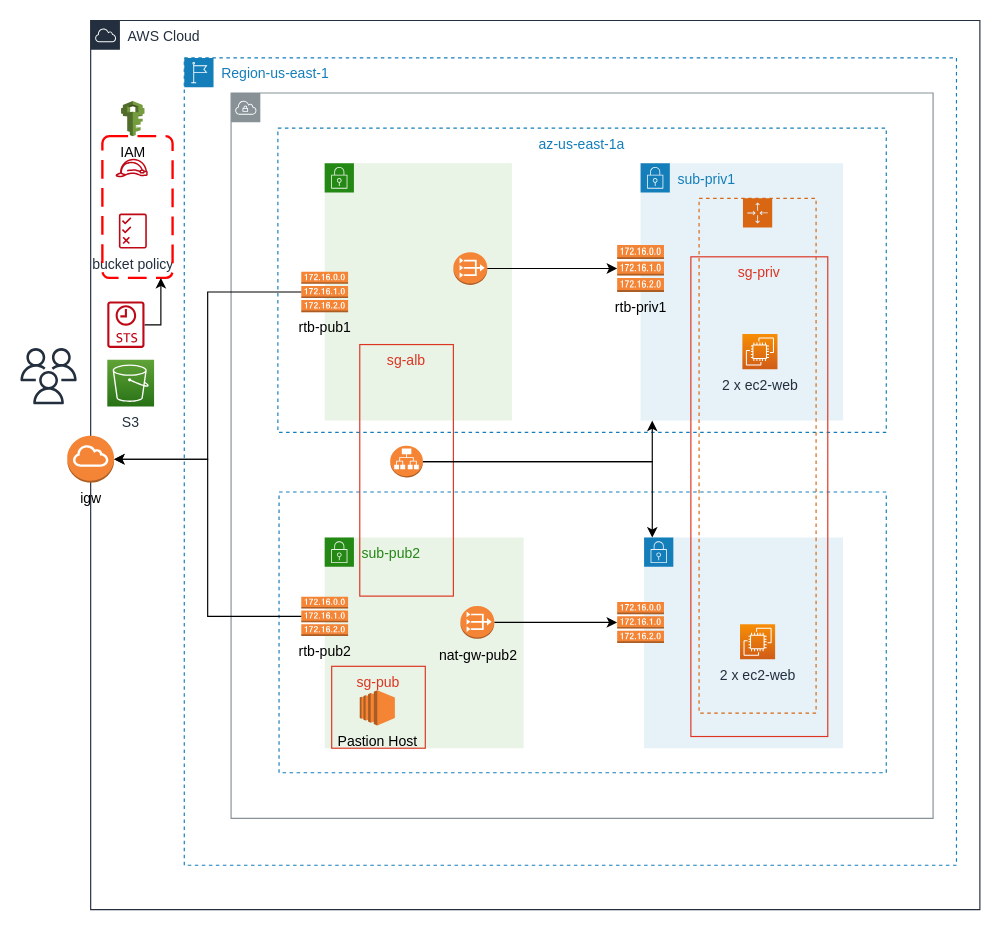
This 1000x930 diagram has some shape labels left out. Here are the shapes that lost their labels. From the top down, the box of each, then its label:
(115, 158, 147, 177): role
(452, 251, 487, 285): nat-gw-pub1
(324, 162, 512, 421): sub-pub1
(20, 347, 76, 404): users
(389, 444, 423, 477): alb
(230, 92, 933, 818): myvpc
(698, 197, 816, 713): asg-web
(278, 491, 886, 773): az-us-east-1b
(616, 601, 664, 643): rtb-priv2
(643, 536, 843, 748): sub-priv2
